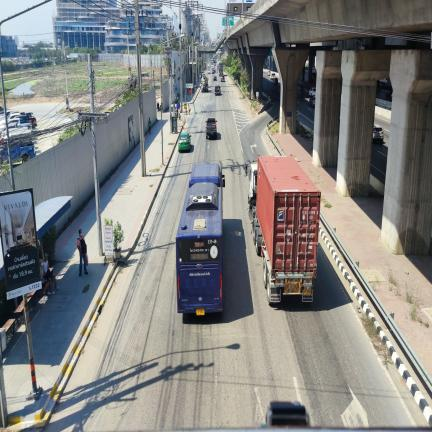bus: (176, 164, 224, 315)
car: (214, 85, 221, 95), (308, 88, 316, 96), (220, 75, 225, 82), (213, 75, 217, 81)
human: (42, 253, 59, 290), (77, 229, 88, 276), (148, 117, 151, 134)
pickup: (10, 126, 36, 162), (0, 131, 8, 162), (206, 118, 217, 139)
taxi: (178, 132, 191, 152)
truck: (245, 154, 321, 302), (9, 126, 36, 162), (0, 131, 8, 162), (201, 75, 208, 92), (218, 63, 224, 76)
